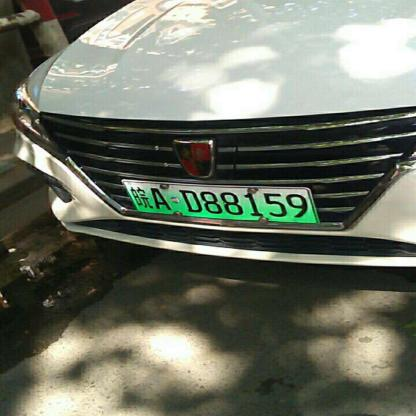lp: (124, 182, 317, 222)
